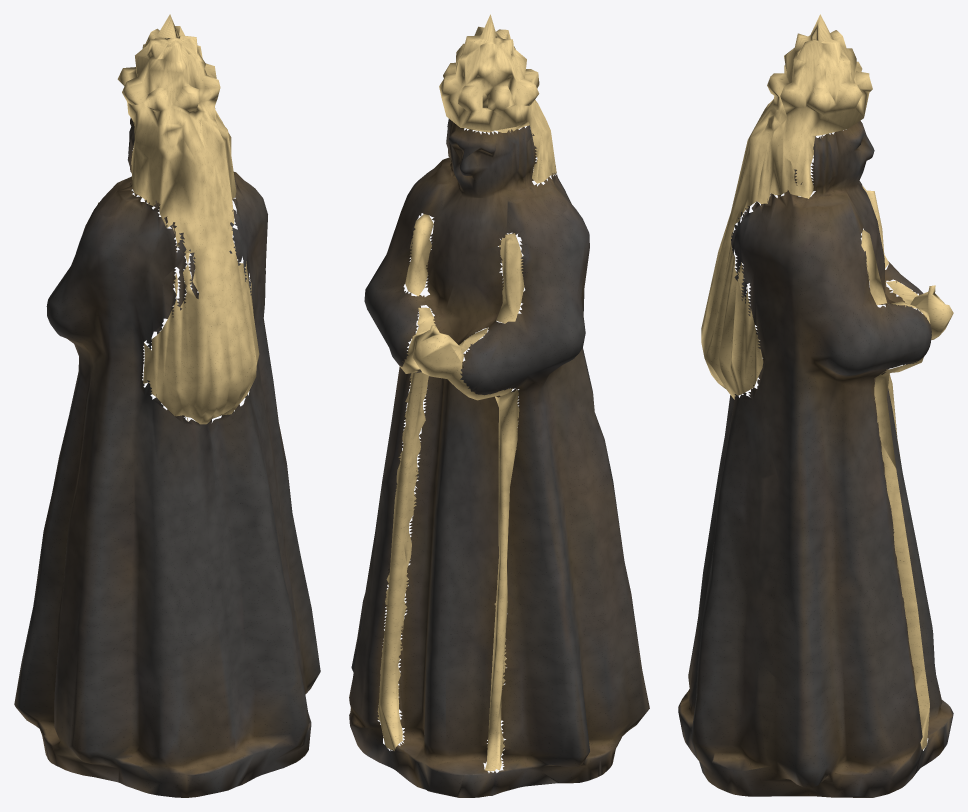
Rendered from queen-black.glb.
3 renders of one model, left to right at view 1: azimuth 30°, elevation 25°; view 2: azimuth 150°, elevation 25°; view 3: azimuth 270°, elevation 25°, orthographic.
Parts seen in each view (by area): view 1: Argent Reliquary – Black Queen; view 2: Argent Reliquary – Black Queen; view 3: Argent Reliquary – Black Queen.
Boxes of the visible parts, box(x1,y1,x2,y2) form: Argent Reliquary – Black Queen: box(14, 14, 320, 797); Argent Reliquary – Black Queen: box(349, 14, 649, 797); Argent Reliquary – Black Queen: box(678, 14, 953, 797).
Bounding box in the file's own units: 0.5839 × 1.53 × 0.5196.
2 materials, 2 textured.
